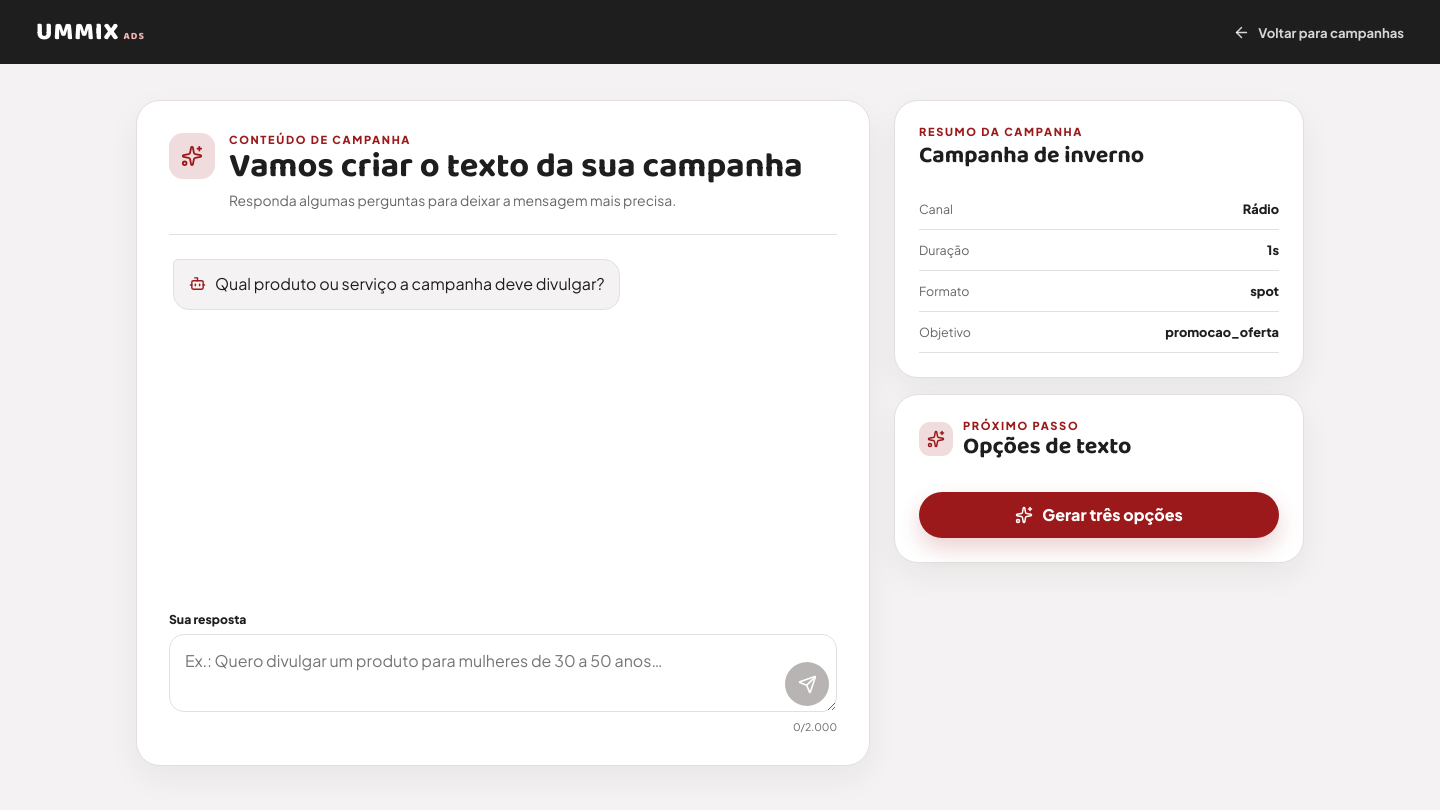
Test: CampaignContentPage › gera três opções, permite editar e salva o texto escolhido
Step 1. Click the button "Gerar três opções" → (1099,515), box left=919, top=492, right=1279, bottom=538
(page scrolled)
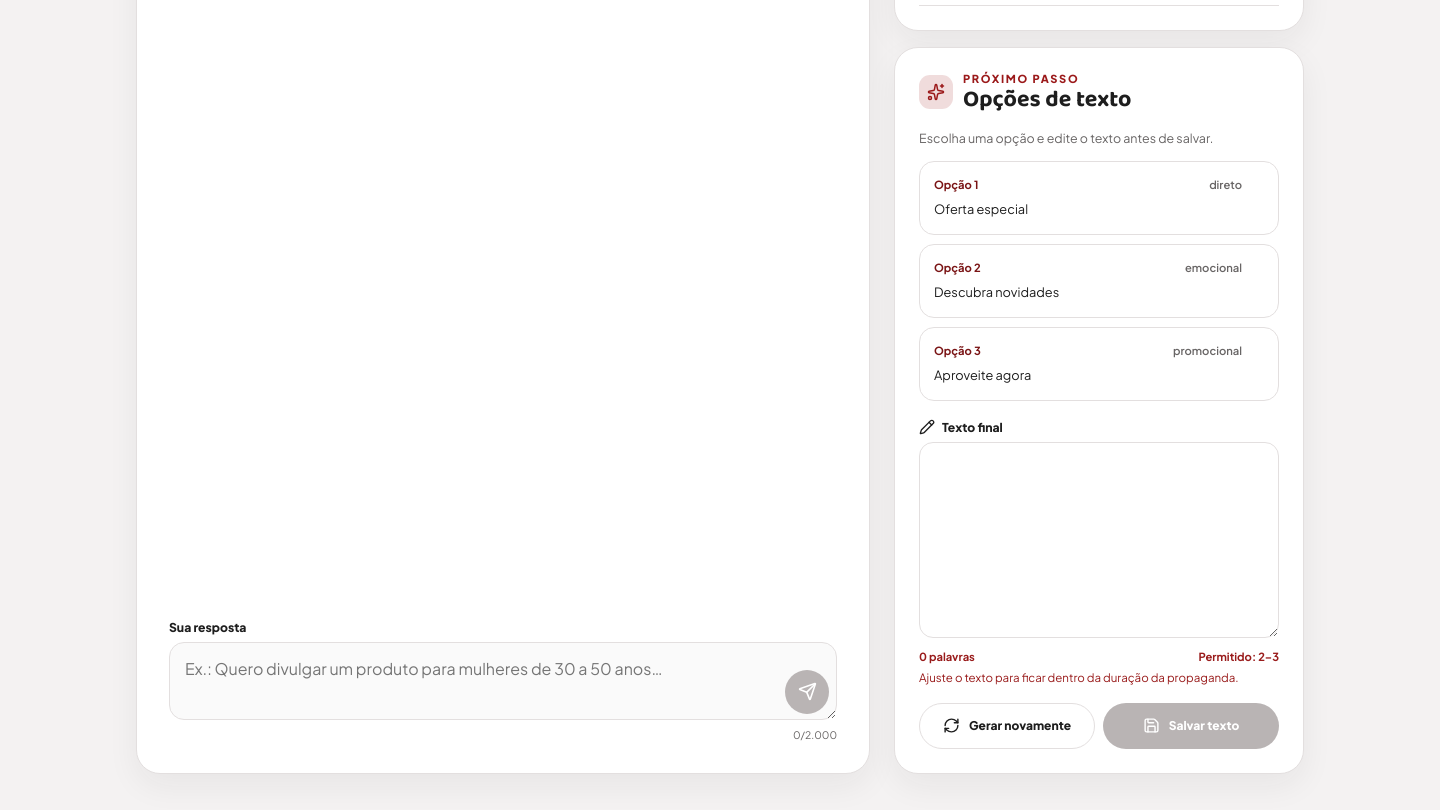
Check: the text "Descubra novidades" is shown, box left=934, top=284, right=1059, bottom=300
Step 2. Type "Oferta revisada" into the text box labelled "Texto final" → (1099,540), box left=919, top=442, right=1279, bottom=638
(page scrolled)
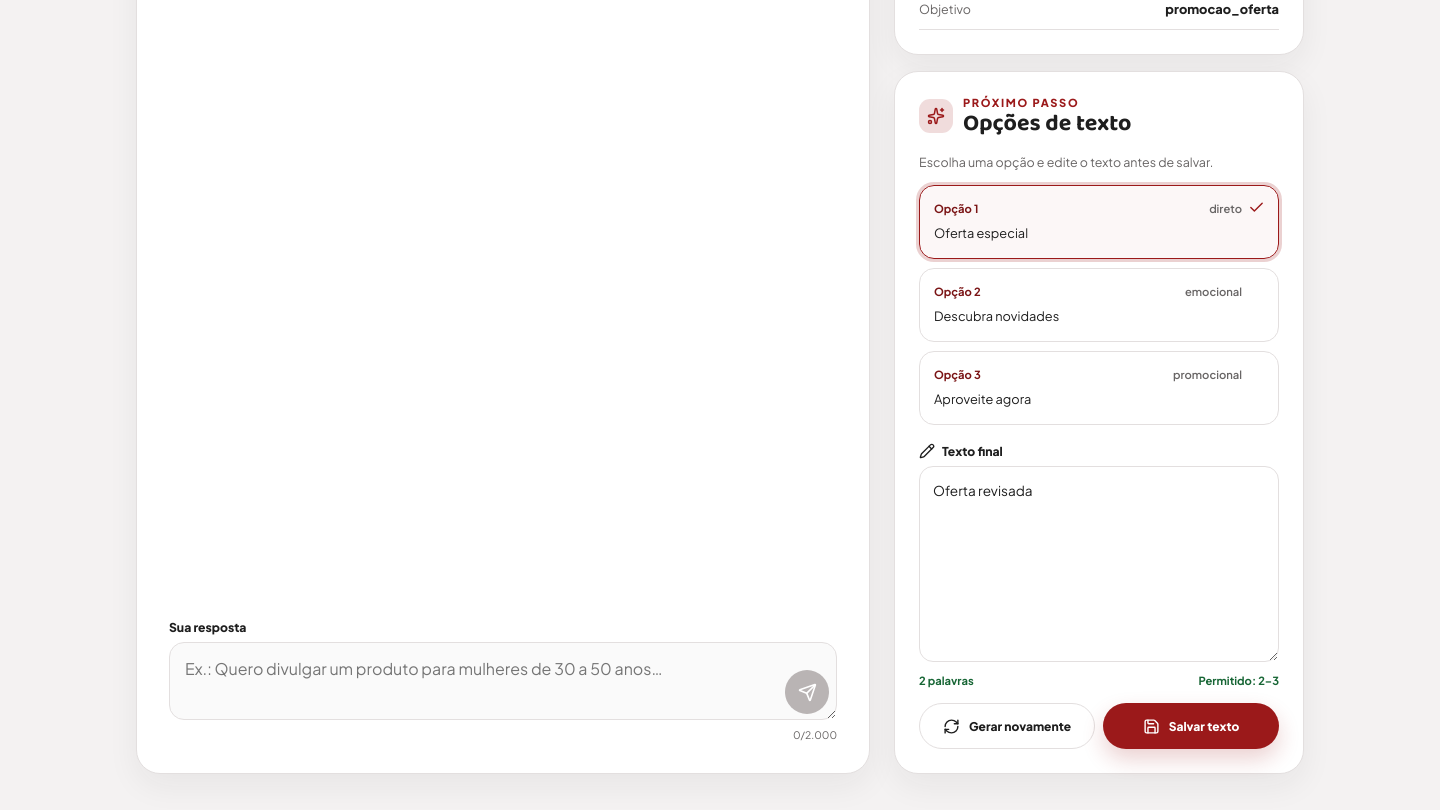
Step 3. Click the button "Salvar texto" → (1191,726), box left=1103, top=703, right=1279, bottom=749
(page scrolled)
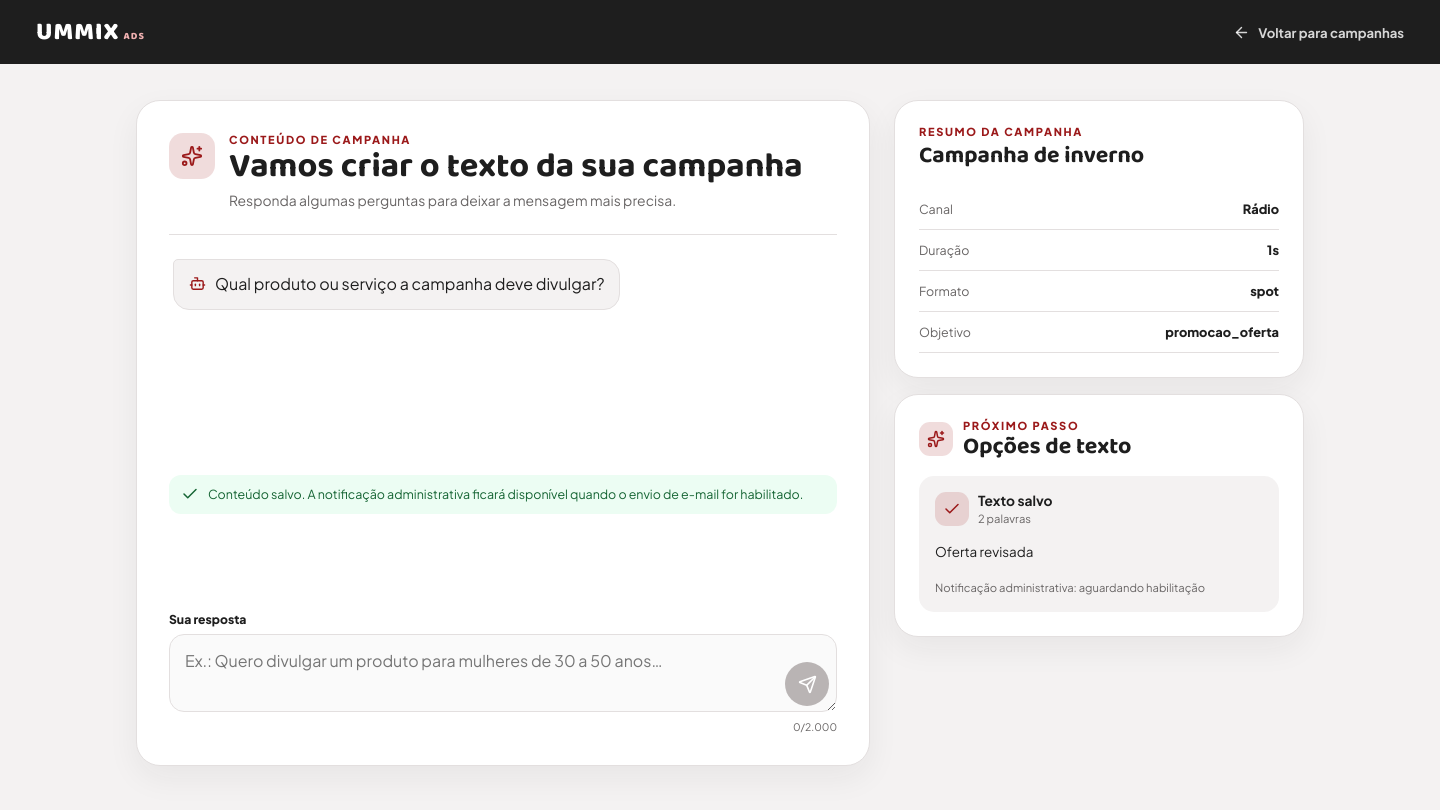
Check: the text "Texto salvo" is shown, box left=978, top=492, right=1053, bottom=510
